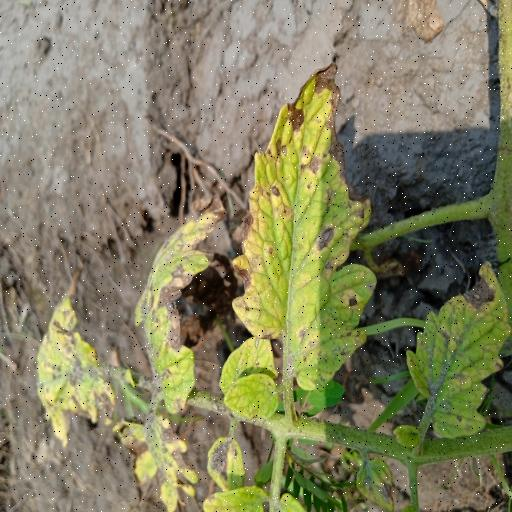Tomato_Brown_Spots: (228, 53, 377, 395), (406, 257, 512, 441)
